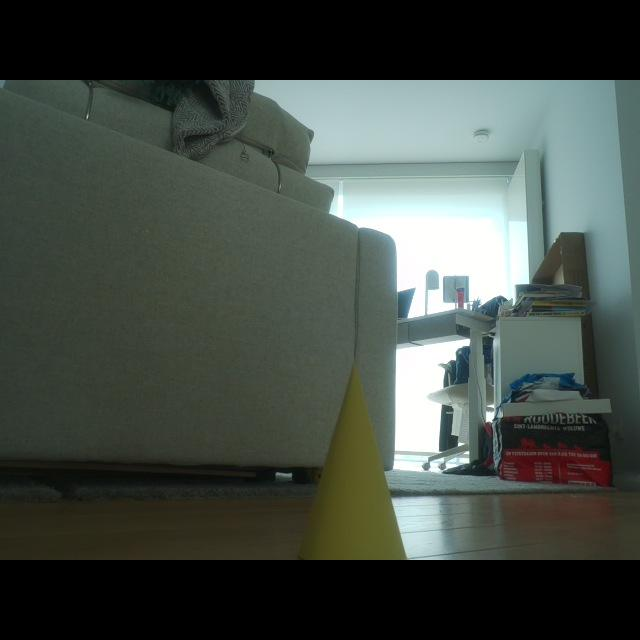bolya: (298, 365, 405, 559)
